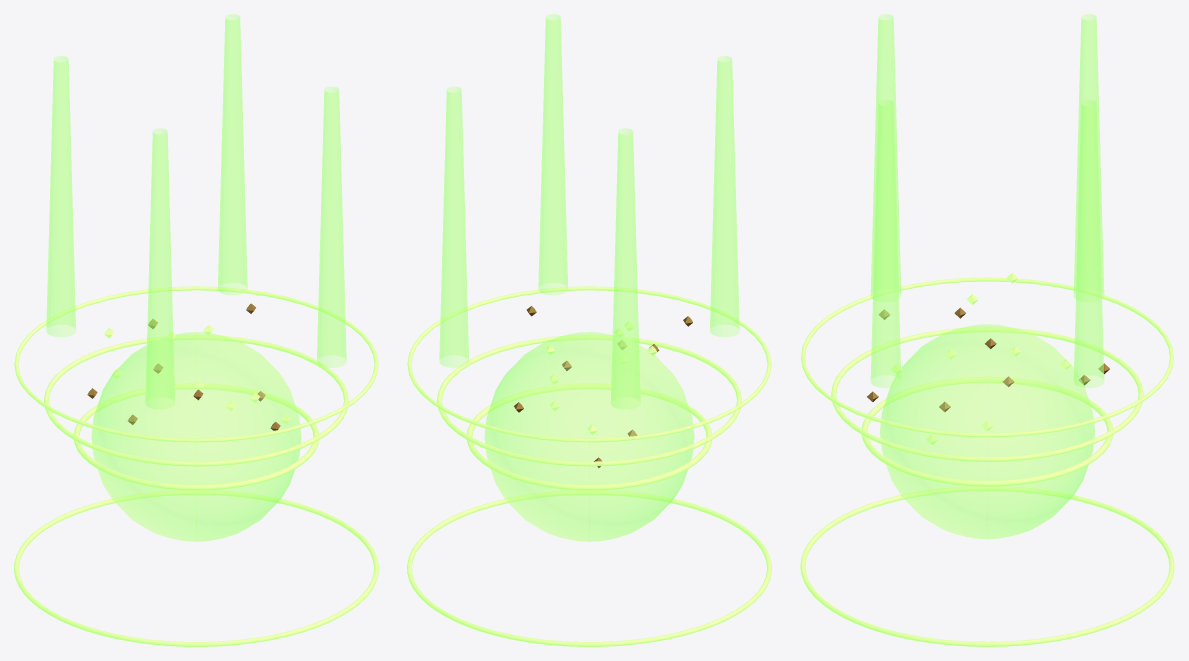
Rendered from vfx_wave_clear.glb.
The picture shows the model from 3 angles, left to right: view 1: azimuth 30°, elevation 25°; view 2: azimuth 150°, elevation 25°; view 3: azimuth 270°, elevation 25°; orthographic projection. The views are drawn at different scales.
Parts seen in each view (by area): view 1: wc_halo, wc_beam1, wc_beam0, wc_beam3, wc_beam2, wc_ground, wc_ring2, wc_ring1, wc_ring0; view 2: wc_halo, wc_beam2, wc_beam3, wc_beam0, wc_beam1, wc_ground, wc_ring2, wc_ring1, wc_ring0; view 3: wc_halo, wc_beam0, wc_beam3, wc_beam1, wc_beam2, wc_ground, wc_ring1, wc_ring2, wc_ring0.
Part boxes in pixels (box(x1,y1,x2,y2)): wc_halo: box(91, 332, 301, 541); wc_beam1: box(145, 128, 175, 409); wc_beam0: box(317, 86, 346, 367); wc_beam3: box(217, 14, 247, 294); wc_beam2: box(46, 56, 75, 336); wc_ground: box(14, 490, 378, 646); wc_ring2: box(14, 286, 378, 442); wc_ring1: box(44, 335, 348, 466); wc_ring0: box(74, 383, 318, 490); wc_halo: box(484, 332, 694, 541); wc_beam2: box(610, 128, 640, 409); wc_beam3: box(439, 86, 468, 367); wc_beam0: box(538, 14, 568, 294); wc_beam1: box(710, 56, 739, 336); wc_ground: box(407, 490, 771, 646); wc_ring2: box(407, 286, 771, 442); wc_ring1: box(437, 335, 741, 466); wc_ring0: box(467, 383, 711, 490); wc_halo: box(880, 324, 1094, 539); wc_beam0: box(870, 100, 901, 387); wc_beam3: box(1073, 100, 1104, 387); wc_beam1: box(870, 14, 901, 298); wc_beam2: box(1073, 14, 1104, 298); wc_ground: box(800, 486, 1174, 646); wc_ring1: box(831, 327, 1143, 461); wc_ring2: box(801, 277, 1173, 437); wc_ring0: box(862, 377, 1112, 486).
Bounding box in the file's own units: 7.3 × 10.95 × 7.3.
